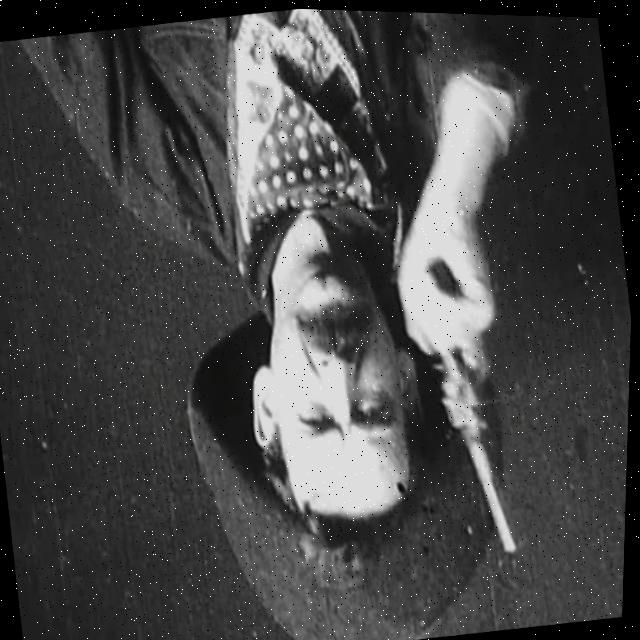pistol: (426, 326, 533, 565)
